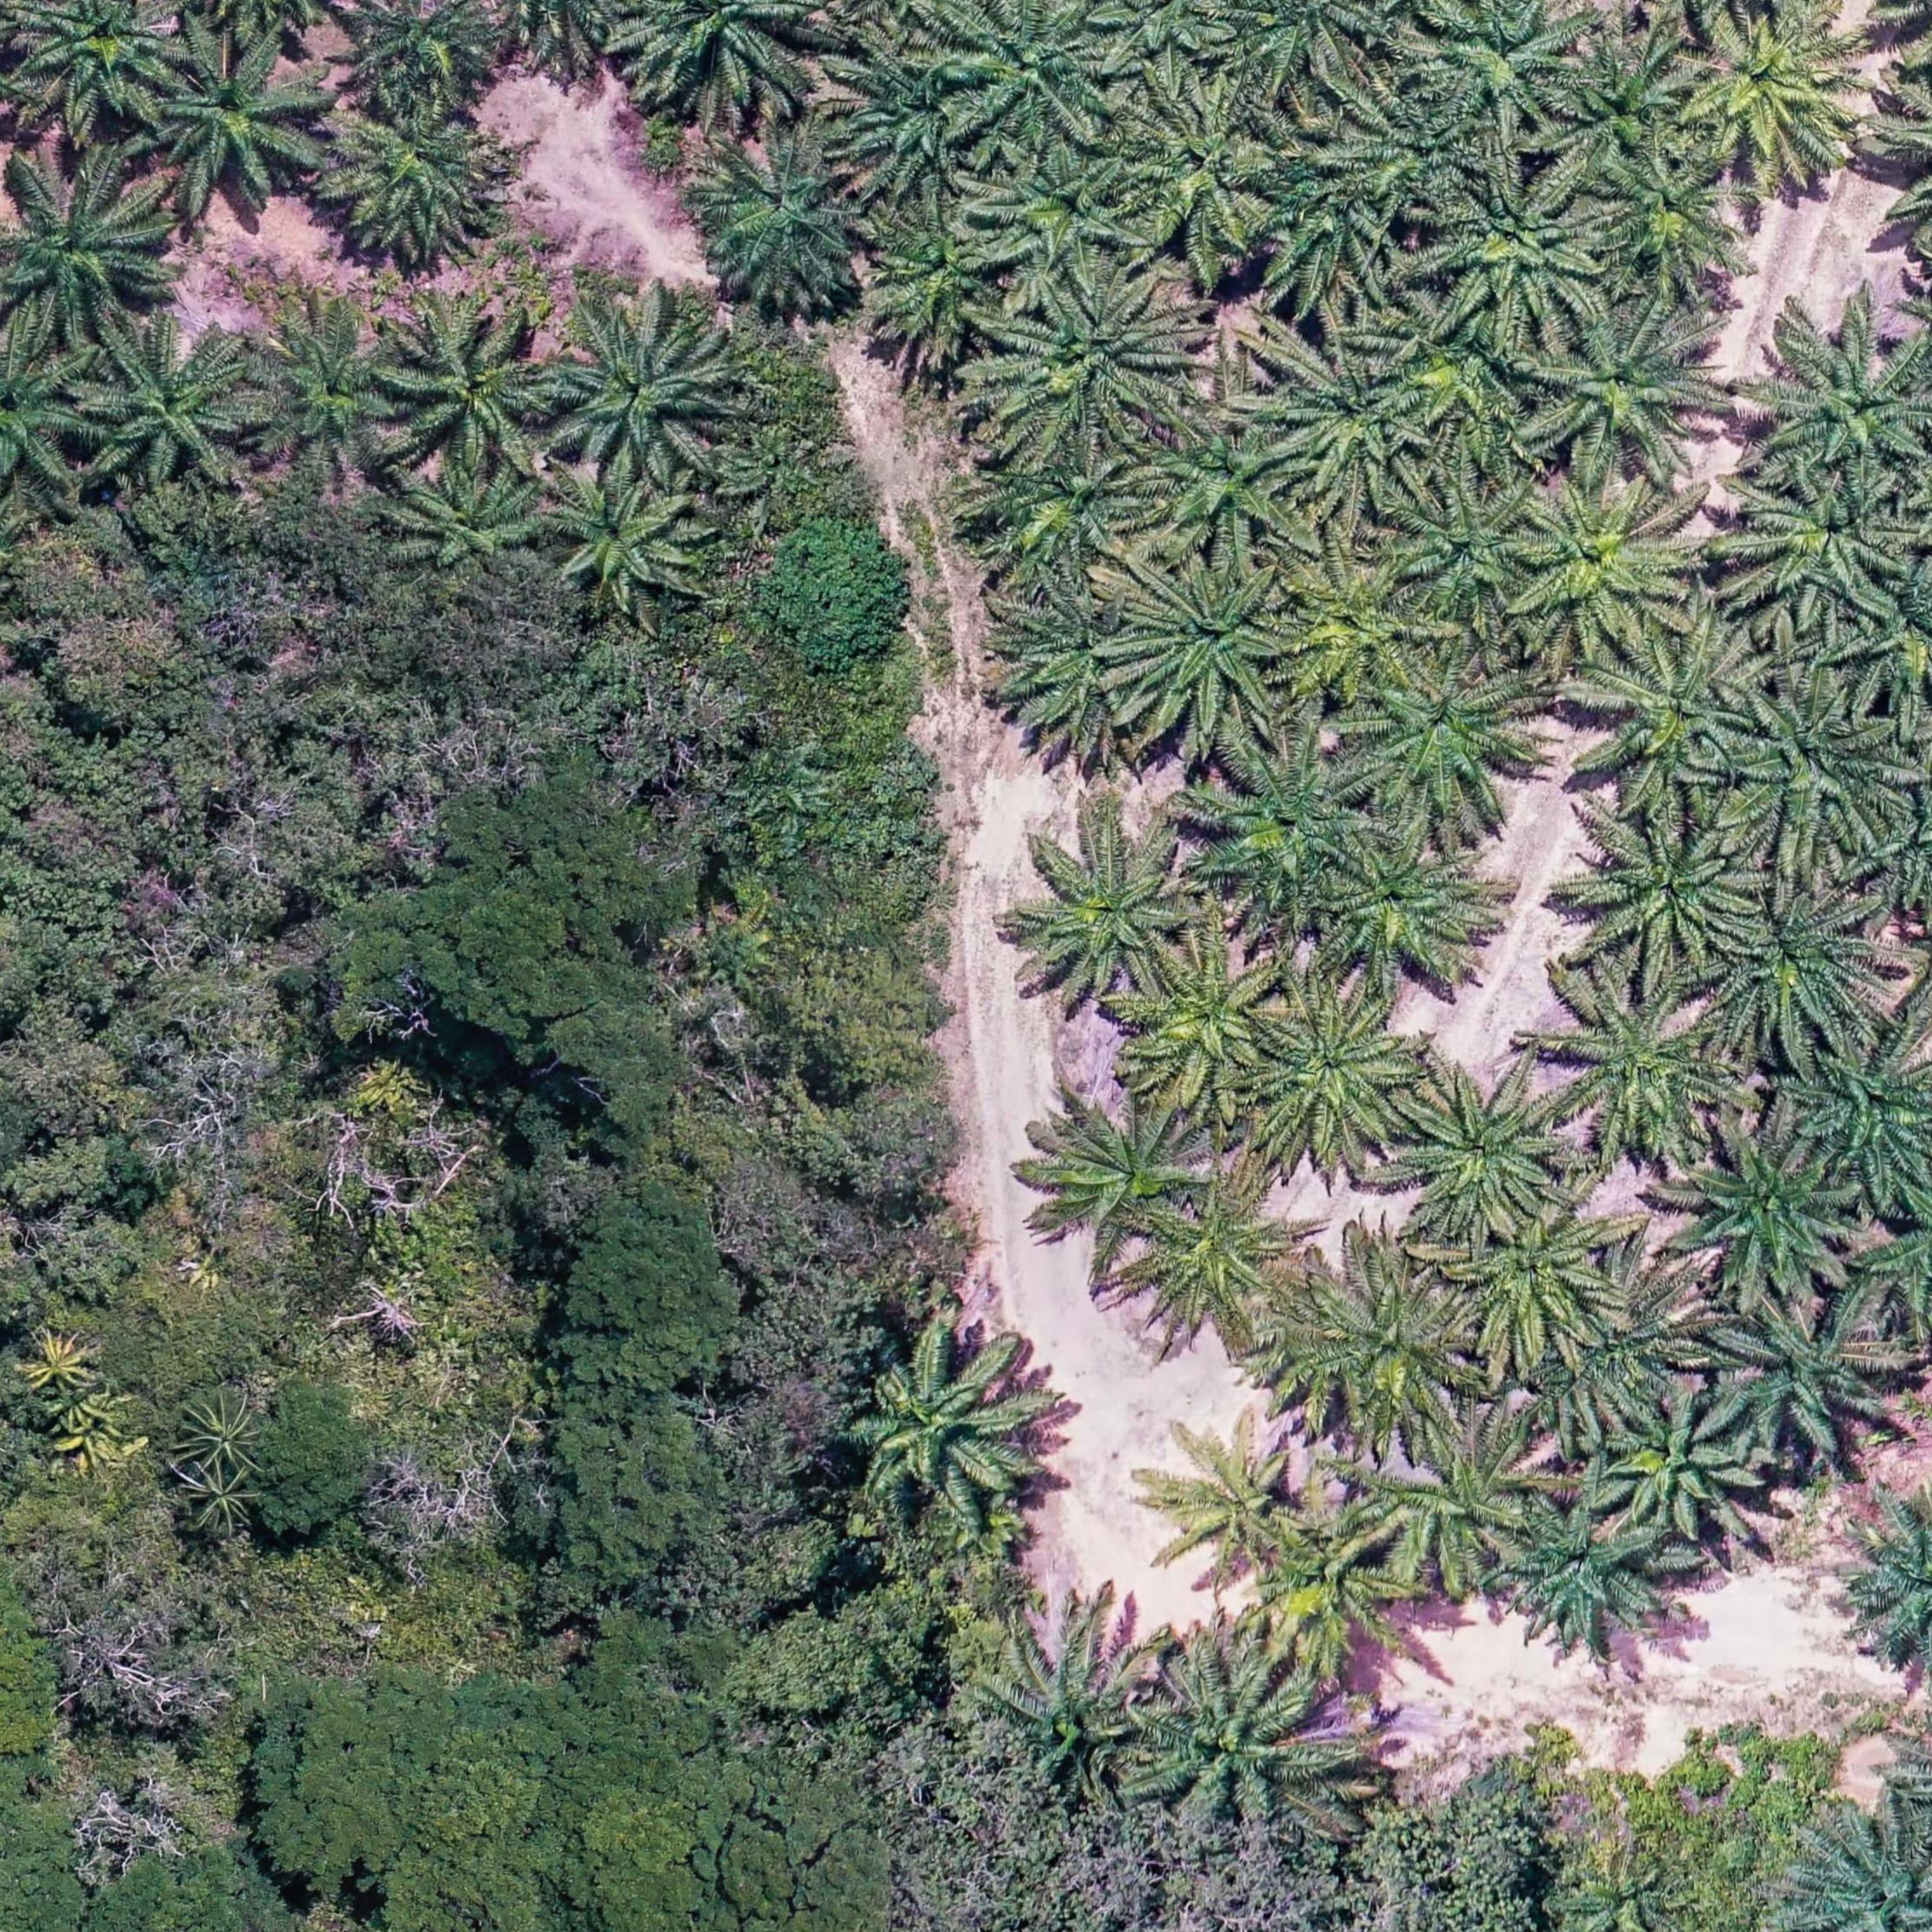palmtree: (1130, 1641, 1350, 1846), (861, 1321, 1044, 1532), (1284, 1263, 1486, 1451), (1684, 7, 1887, 188), (1531, 301, 1726, 488), (1546, 973, 1738, 1160), (1358, 650, 1556, 829), (1709, 1289, 1905, 1468), (1584, 626, 1775, 810), (1226, 1503, 1414, 1686), (1510, 475, 1699, 655), (1680, 1124, 1869, 1302), (999, 270, 1191, 446), (1197, 735, 1384, 916), (1706, 875, 1893, 1055), (1013, 821, 1198, 1001), (548, 306, 737, 482), (1725, 678, 1908, 860), (145, 33, 333, 208), (84, 322, 272, 495), (1751, 317, 1932, 495), (980, 1624, 1162, 1801), (1370, 1415, 1558, 1586), (1118, 563, 1299, 738), (2, 157, 177, 339), (692, 130, 874, 306), (1396, 1070, 1579, 1243), (382, 300, 564, 473), (1439, 1197, 1625, 1367), (1498, 1492, 1686, 1659), (241, 301, 423, 475), (328, 93, 514, 260), (1429, 161, 1609, 333), (1253, 989, 1434, 1161), (1731, 467, 1916, 635), (1127, 1180, 1311, 1342), (1581, 809, 1763, 971), (1318, 826, 1499, 987), (1597, 1385, 1769, 1549), (1274, 343, 1442, 505), (1153, 1418, 1318, 1580), (1124, 81, 1280, 248), (958, 3, 1127, 154), (1123, 947, 1288, 1101), (1277, 552, 1442, 706), (979, 449, 1152, 591), (1590, 143, 1751, 295), (618, 0, 833, 114), (865, 205, 1019, 361), (1052, 1097, 1215, 1243), (1390, 476, 1553, 623), (1246, 168, 1415, 308), (1000, 592, 1151, 749), (1149, 417, 1314, 560), (1790, 1026, 1932, 1193), (13, 0, 193, 131), (985, 149, 1151, 290), (1424, 0, 1590, 138), (1549, 35, 1708, 178), (544, 471, 705, 612), (842, 48, 995, 194), (1395, 315, 1531, 470), (399, 459, 562, 588), (1569, 1276, 1711, 1416), (1836, 1486, 1932, 1682), (0, 326, 102, 506), (339, 0, 511, 105), (1351, 84, 1488, 201), (1797, 1821, 1932, 1932), (1228, 0, 1384, 93), (718, 424, 831, 516), (1557, 1856, 1679, 1932), (179, 1391, 273, 1478), (178, 1458, 264, 1540)
